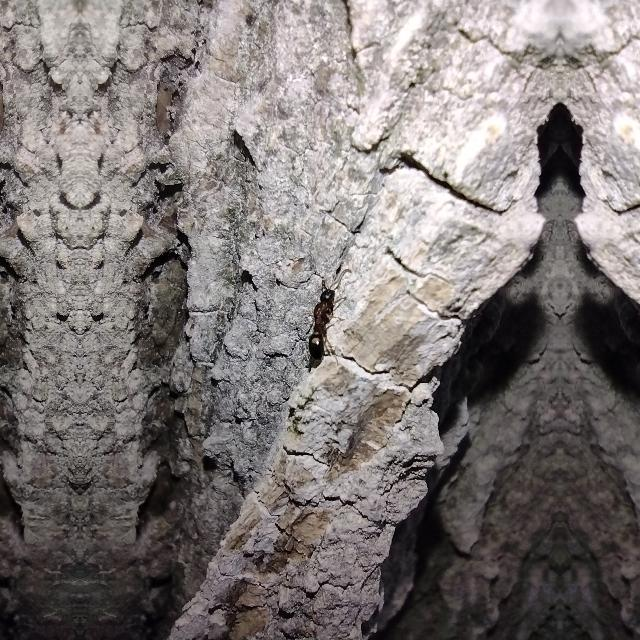Dolichoderus: (296, 267, 352, 369)
